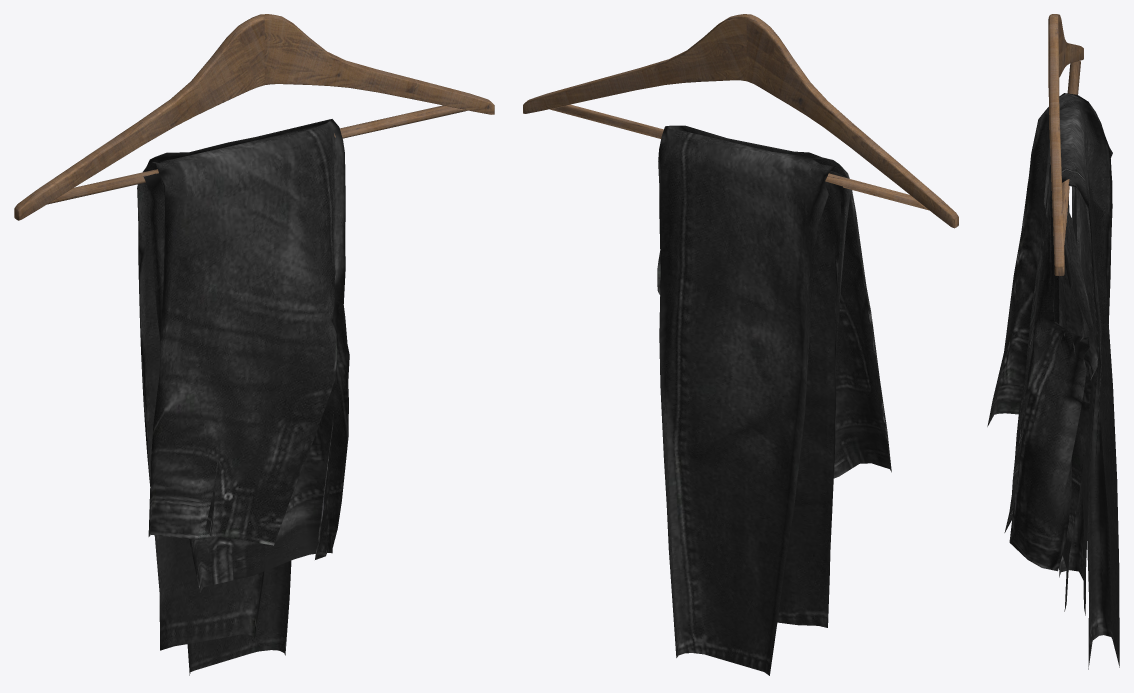
File: hvpants_Plants599.glb
3 views of the same model, side by side, from view 1: azimuth 30°, elevation 25°; view 2: azimuth 150°, elevation 25°; view 3: azimuth 270°, elevation 25° (orthographic). The views are drawn at different scales.
Visible parts, largest first — view 1: Plants599_StaticMeshComponent0; view 2: Plants599_StaticMeshComponent0; view 3: Plants599_StaticMeshComponent0.
Boxes of the visible parts, x1,y1,x2,y2 form: Plants599_StaticMeshComponent0: (14,14,494,675); Plants599_StaticMeshComponent0: (523,14,958,675); Plants599_StaticMeshComponent0: (987,14,1119,669).
Size of the model in its own units: 0.437 by 0.5988 by 0.1122.
Materials: 2 (2 with a texture image).
